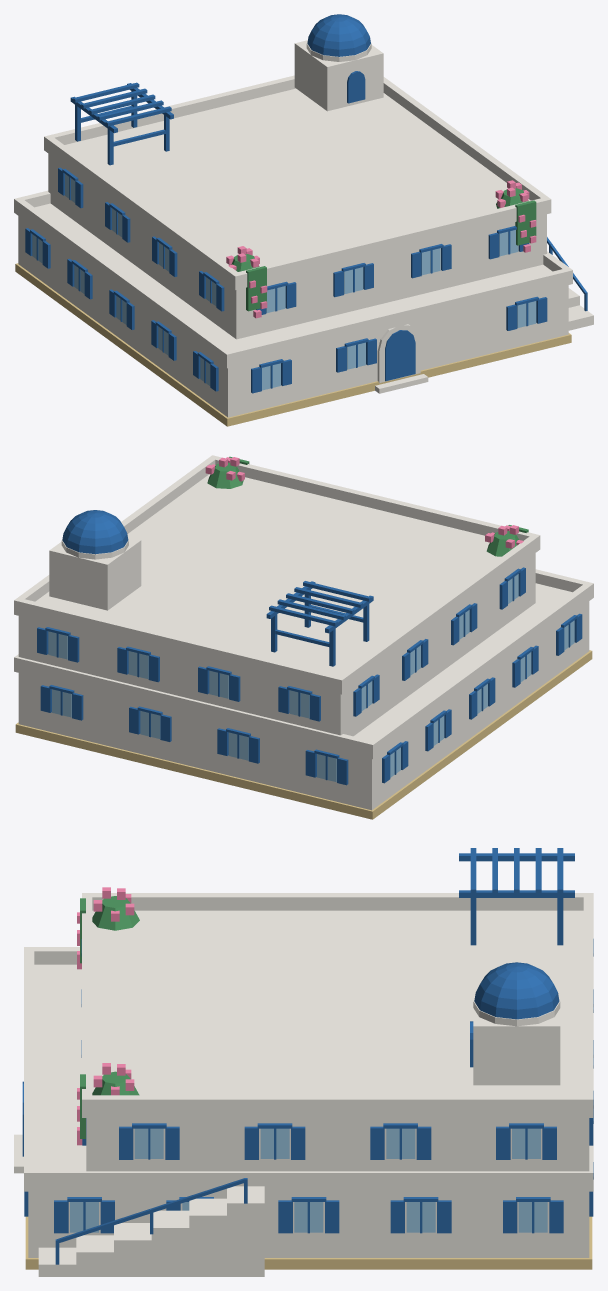
The model's file is house-2x2-2f-aegean-a.glb.
The picture shows the model from 3 angles, top to bottom: view 1: azimuth 30°, elevation 25°; view 2: azimuth 150°, elevation 25°; view 3: azimuth 270°, elevation 25°; orthographic projection. The views are drawn at different scales.
Visible parts, largest first — view 1: house-2x2-2f-aegean-a; view 2: house-2x2-2f-aegean-a; view 3: house-2x2-2f-aegean-a.
Boxes of the visible parts, x1,y1,x2,y2 form: house-2x2-2f-aegean-a: (14, 14, 593, 426); house-2x2-2f-aegean-a: (14, 455, 593, 819); house-2x2-2f-aegean-a: (14, 848, 593, 1276).
Size of the model in its own units: 1.99 by 1.03 by 2.
1 material, 1 textured.
